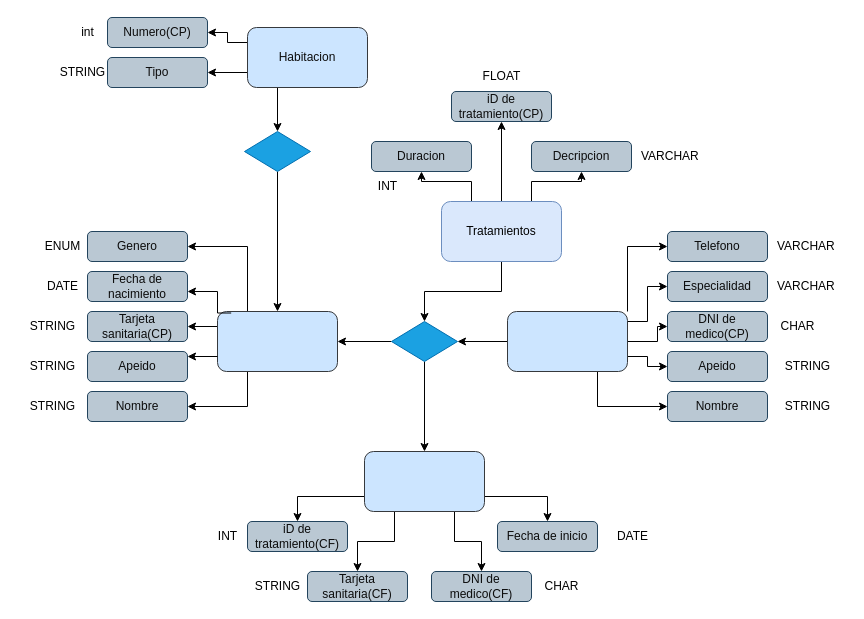
The diagram is 864 pixels wide and 619 high, and some of its shapes have lost their labels. The shapes that lost their labels are listed below. From the top down, each one's centre as x and y in pixels, then its label:
At (277,151): "1:M".
At (277,341): "Pacientes".
At (424,341): "N:M:P".
At (567,341): "Medicos".
At (424,481): "Asignacion de tratamientos".
